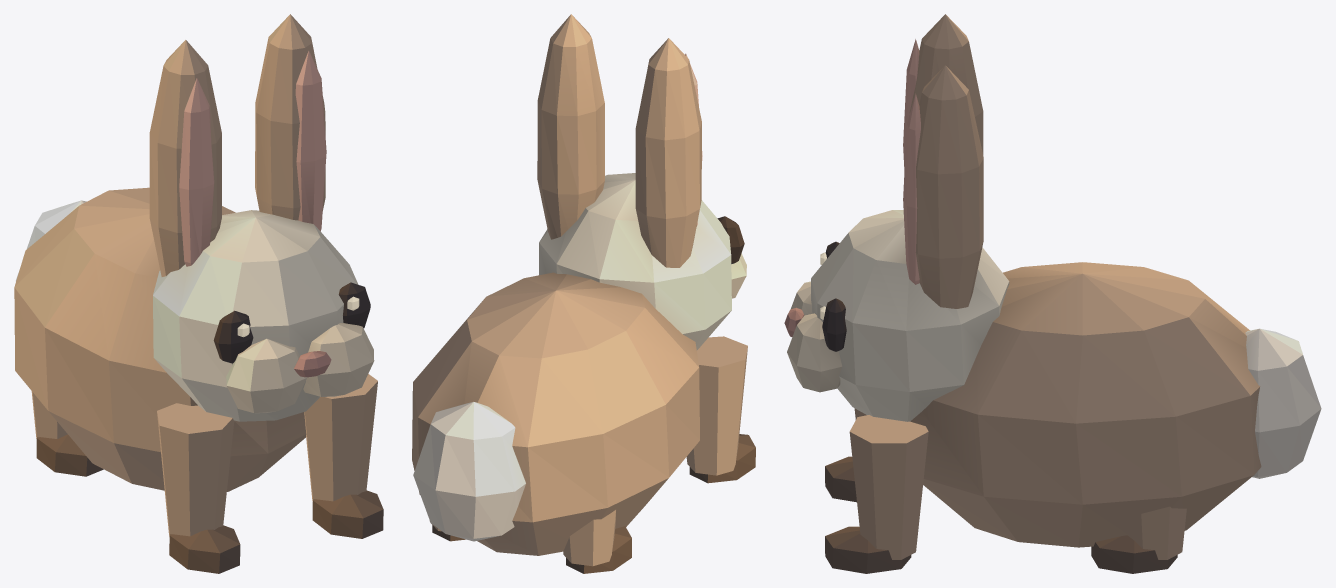
The model's file is farm_rabbit.glb.
3 renders of one model, left to right at view 1: azimuth 30°, elevation 25°; view 2: azimuth 150°, elevation 25°; view 3: azimuth 270°, elevation 25°, orthographic. The views are drawn at different scales.
Parts seen in each view (by area): view 1: farm_rabbit, Paw_-1_0.23, Paw_1_0.23, Paw_-1_-0.21; view 2: farm_rabbit, Paw_-1_0.23, Paw_-1_-0.21; view 3: farm_rabbit, Paw_1_0.23, Paw_1_-0.21, Paw_-1_0.23.
Part boxes in pixels (box(x1,y1,x2,y2)): farm_rabbit: box(14, 14, 374, 491); Paw_-1_0.23: box(157, 403, 240, 573); Paw_1_0.23: box(304, 374, 383, 538); Paw_-1_-0.21: box(31, 391, 103, 476); farm_rabbit: box(412, 14, 746, 555); Paw_-1_0.23: box(686, 336, 755, 483); Paw_-1_-0.21: box(563, 510, 631, 573); farm_rabbit: box(784, 14, 1321, 547); Paw_1_0.23: box(825, 415, 928, 573); Paw_1_-0.21: box(1091, 506, 1186, 573); Paw_-1_0.23: box(825, 408, 866, 502).
Size of the model in its own units: 0.4641 by 0.905 by 0.8874.
